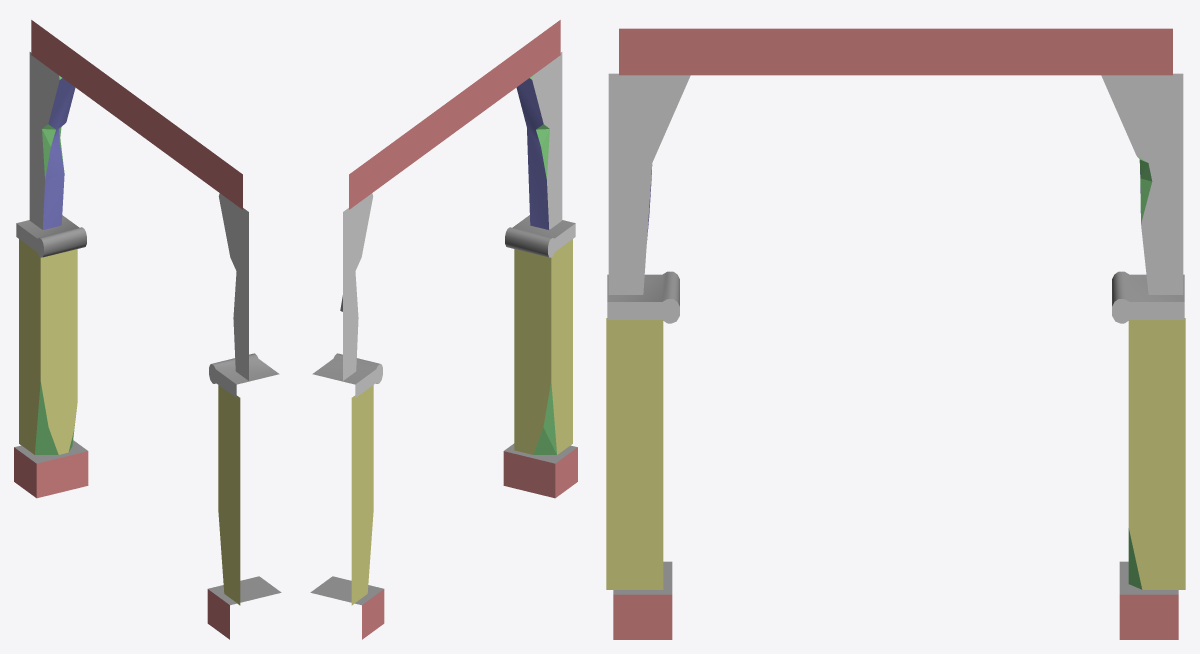
The model's file is SSQ_pillar_032.gltf.
3 renders of one model, left to right at view 1: azimuth 30°, elevation 25°; view 2: azimuth 150°, elevation 25°; view 3: azimuth 270°, elevation 25°, orthographic. The views are drawn at different scales.
Parts seen in each view (by area): view 1: SSQ_pillar_032; view 2: SSQ_pillar_032; view 3: SSQ_pillar_032.
Boxes of the visible parts, x1,y1,x2,y2 form: SSQ_pillar_032: (14,20,281,639); SSQ_pillar_032: (310,20,577,639); SSQ_pillar_032: (606,28,1185,639).
Size of the model in its own units: 0.4517 by 3.84 by 3.35.
